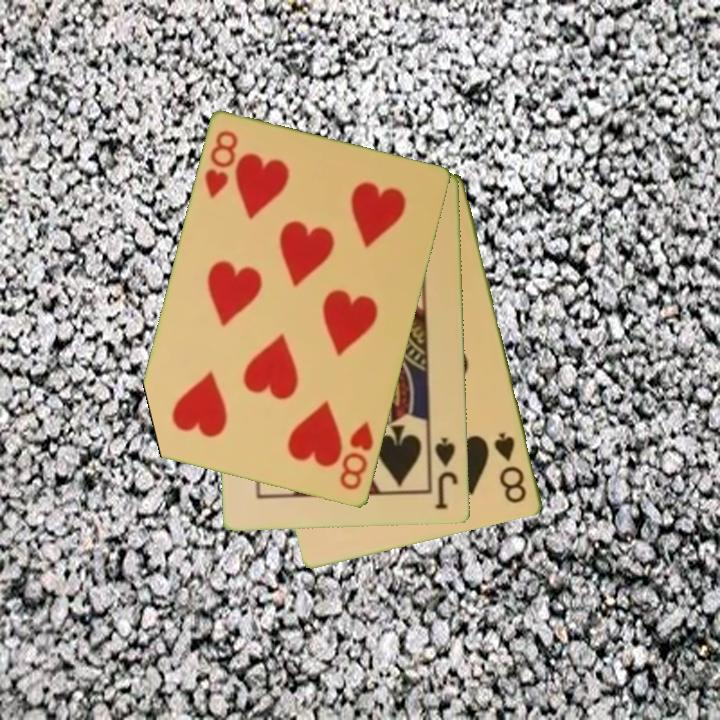8h: (336, 419, 377, 494), (201, 127, 241, 203)
8s: (491, 429, 530, 507)
Js: (432, 434, 461, 512)
